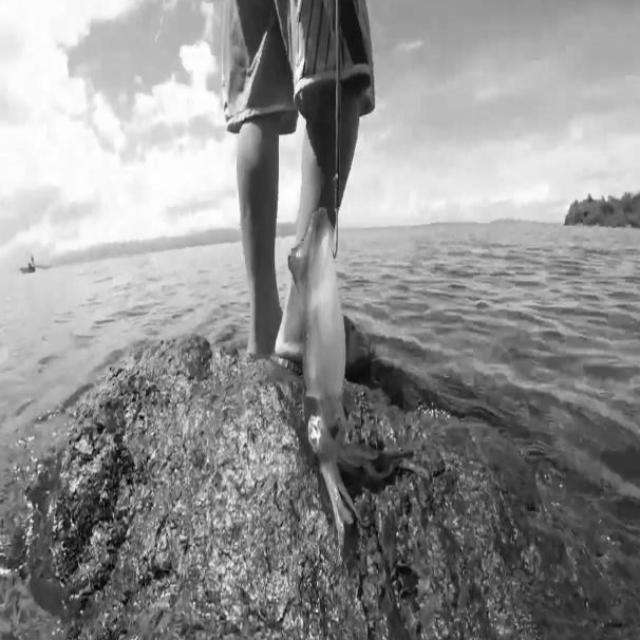SQUID: (272, 164, 432, 583)
